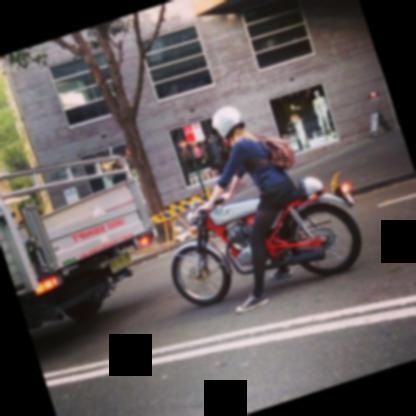backpack: (240, 133, 294, 170)
